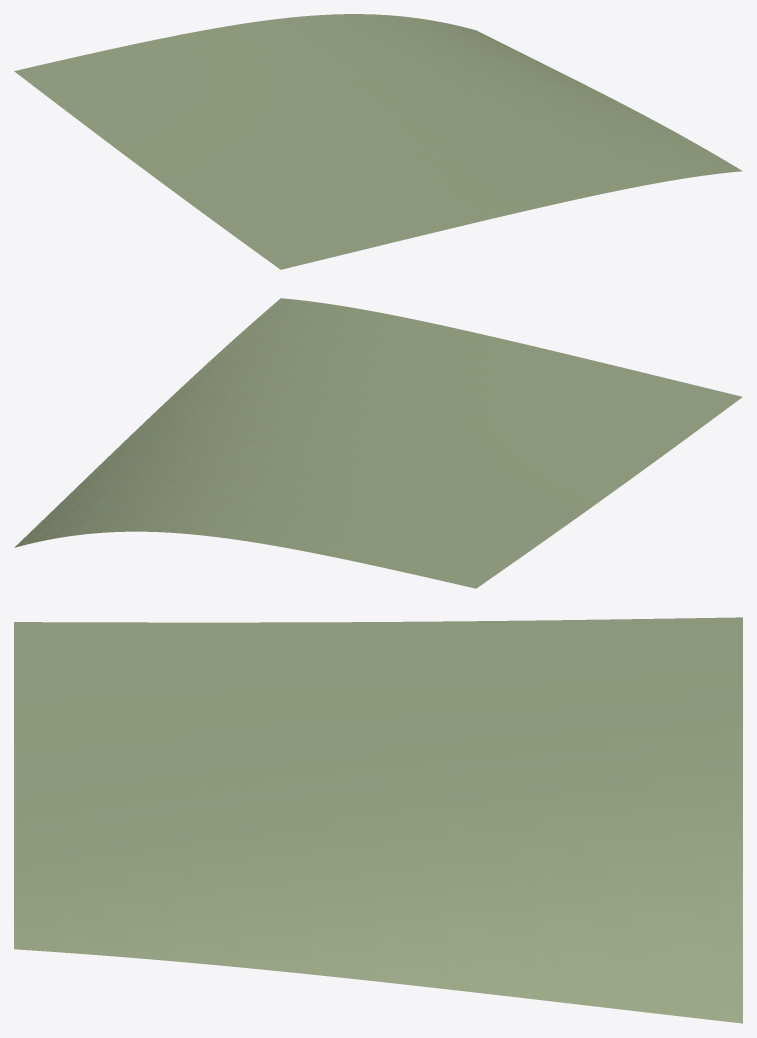
File: expanse-12-28.glb
3 renders of one model, top to bottom at view 1: azimuth 30°, elevation 25°; view 2: azimuth 150°, elevation 25°; view 3: azimuth 270°, elevation 25°, orthographic. The views are drawn at different scales.
Visible parts, largest first — view 1: expanse-12-28; view 2: expanse-12-28; view 3: expanse-12-28.
Part boxes in pixels (x1,y1,x2,y2): expanse-12-28: [14, 14, 742, 269]; expanse-12-28: [14, 298, 742, 588]; expanse-12-28: [14, 617, 742, 1023].
Bounding box in the file's own units: 256 × 38.04 × 256.
